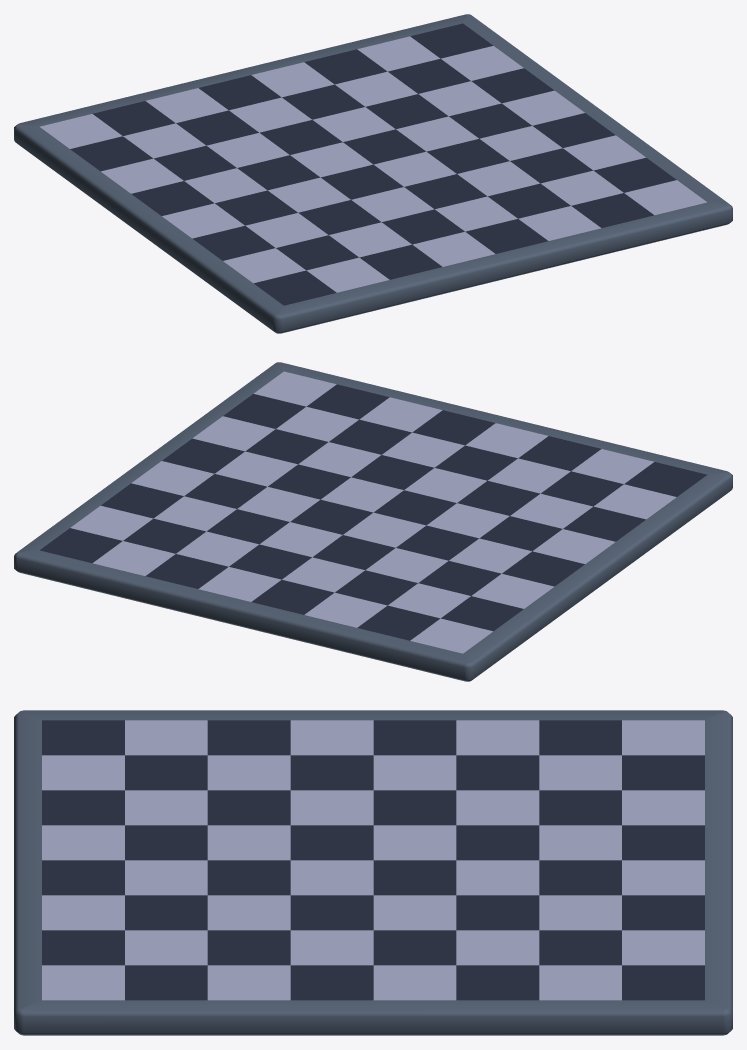
File: board.glb
3 views of the same model, one above another, from view 1: azimuth 30°, elevation 25°; view 2: azimuth 150°, elevation 25°; view 3: azimuth 270°, elevation 25° (orthographic). The views are drawn at different scales.
Visible parts, largest first — view 1: chess_board; view 2: chess_board; view 3: chess_board.
Boxes of the visible parts, bbox=[...] form: chess_board: bbox=[14, 14, 732, 333]; chess_board: bbox=[14, 362, 732, 681]; chess_board: bbox=[14, 710, 732, 1035].
Size of the model in its own units: 0.434 by 0.017 by 0.434.
